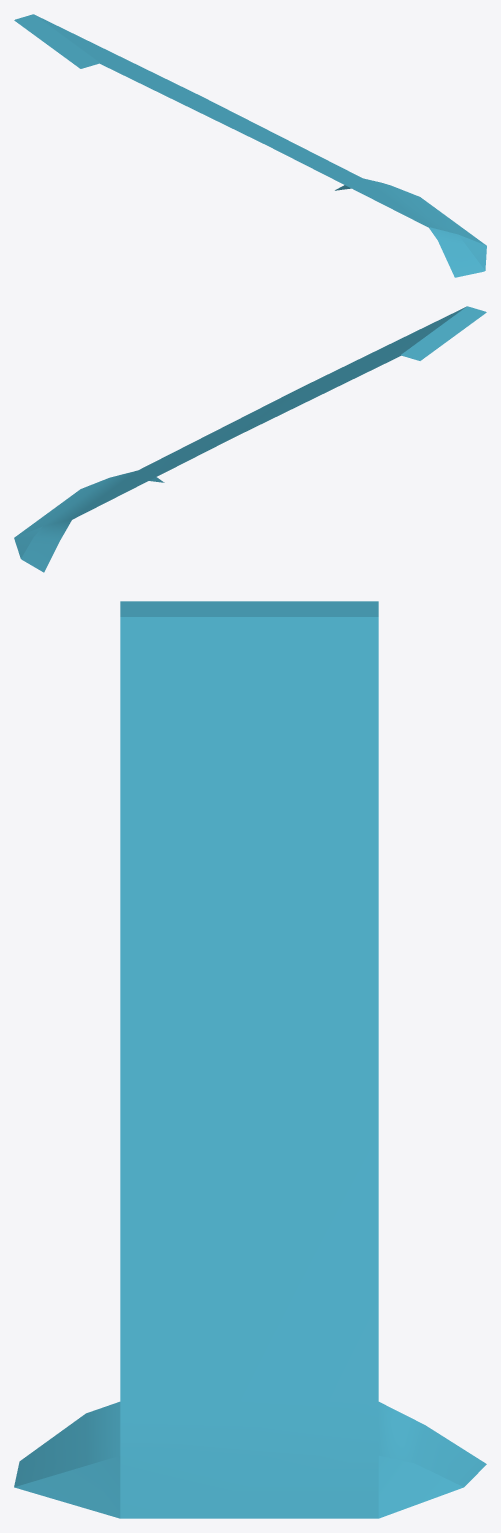
File: Metal_Stair_04_Collider.fbx
The picture shows the model from 3 angles, top to bottom: view 1: azimuth 30°, elevation 25°; view 2: azimuth 150°, elevation 25°; view 3: azimuth 270°, elevation 25°; orthographic projection. The views are drawn at different scales.
Visible parts, largest first — view 1: Metal_Stair_04_Collider; view 2: Metal_Stair_04_Collider; view 3: Metal_Stair_04_Collider.
Boxes of the visible parts, x1,y1,x2,y2 form: Metal_Stair_04_Collider: (14, 14, 486, 277); Metal_Stair_04_Collider: (14, 306, 486, 572); Metal_Stair_04_Collider: (14, 601, 486, 1518).
Size of the model in its own units: 514 by 335 by 268.
